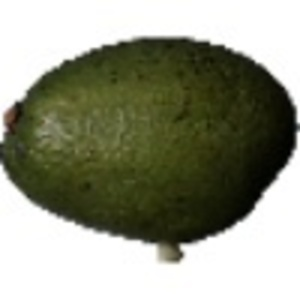abacate: (1, 35, 298, 246)
